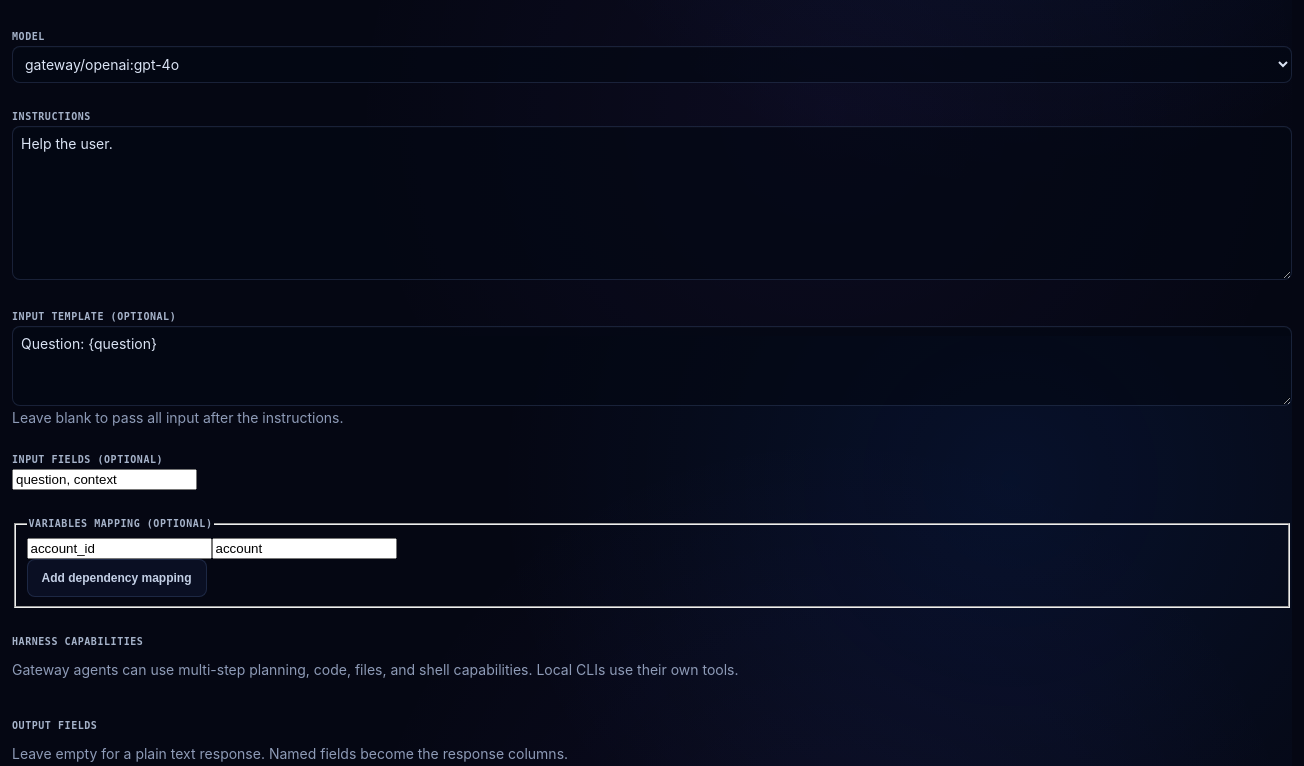
Scenario: AgentDetail › edits and backspaces the prompt normally
(page scrolled)
Replace the text in the text box named "Prompt template" with "abc" at (652, 366), box x1=12 y1=326 x2=1292 y2=406
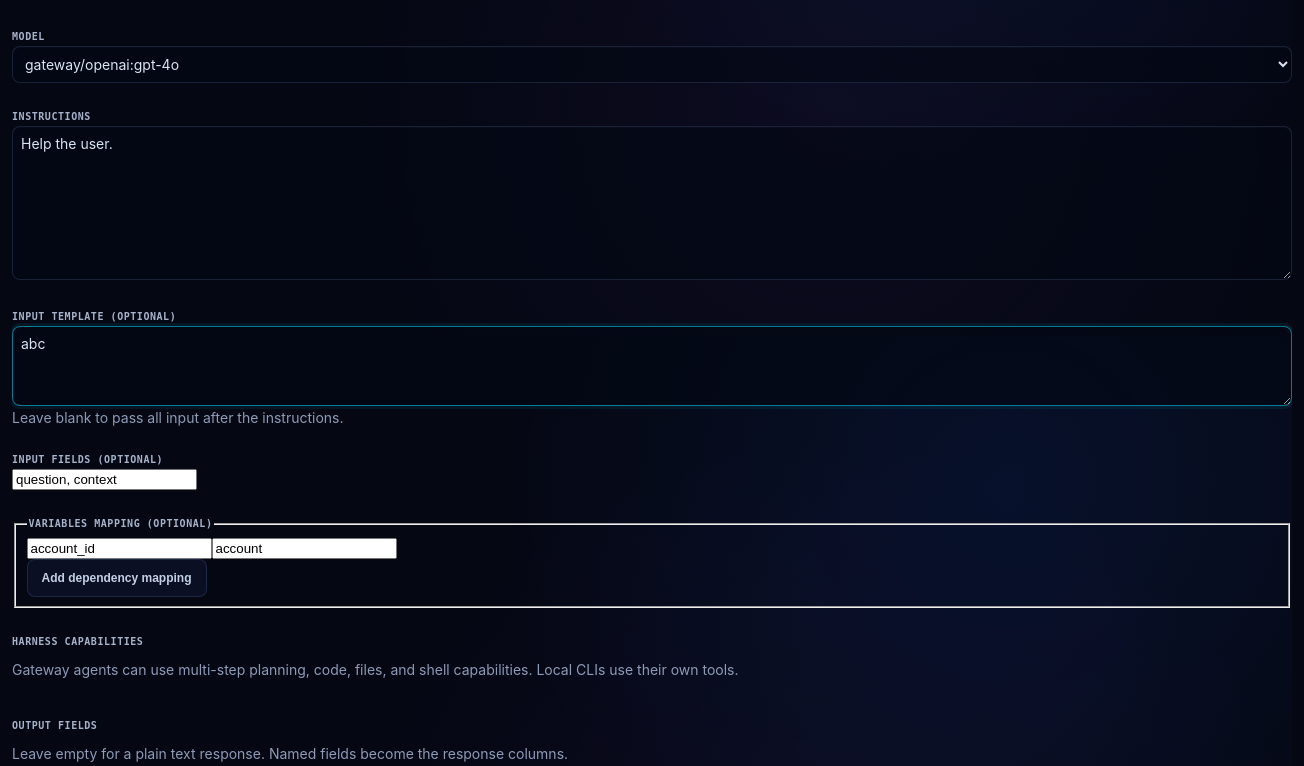
Press Backspace
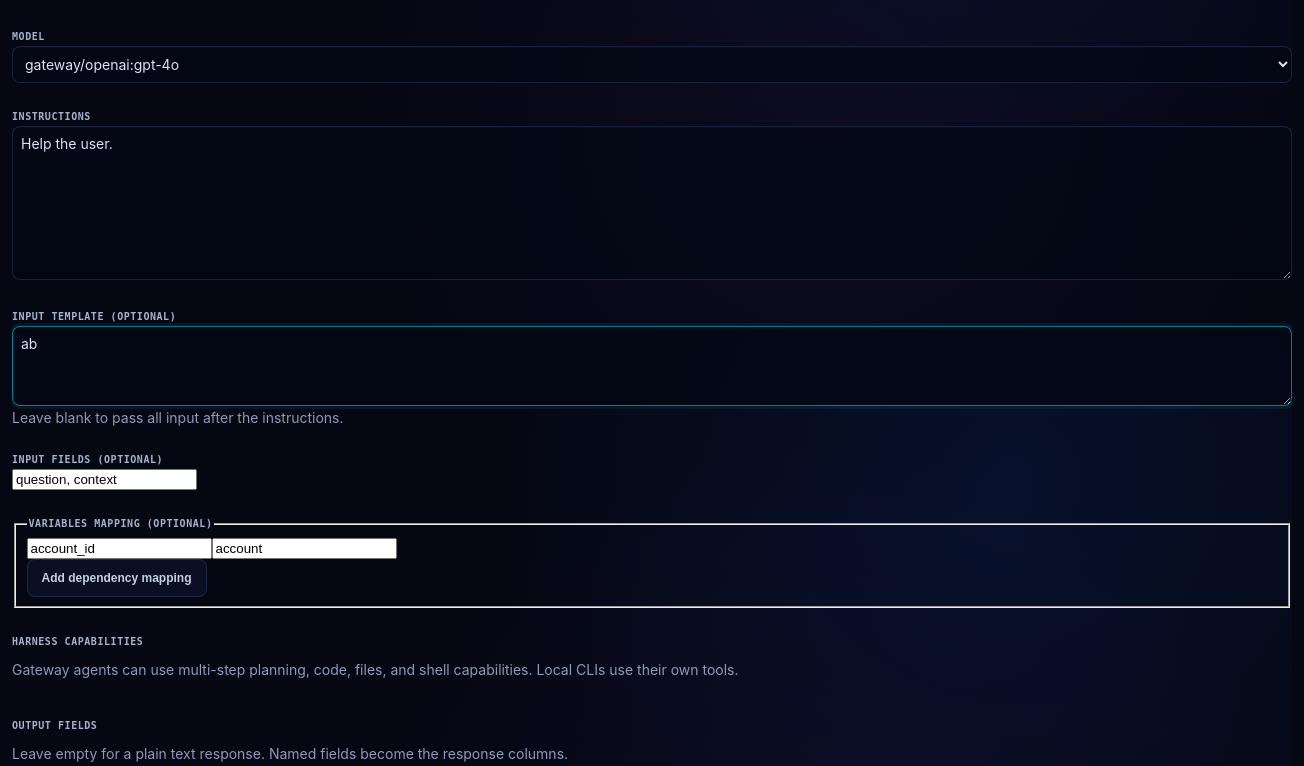
expect the text box named "Prompt template" holds "ab": met, box x1=12 y1=326 x2=1292 y2=406
